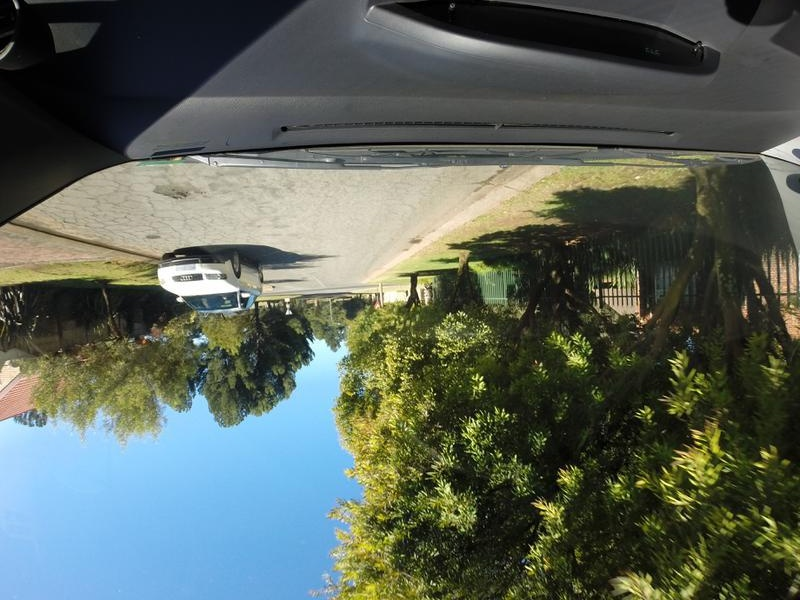pothole: (149, 180, 202, 199), (138, 232, 160, 240)
